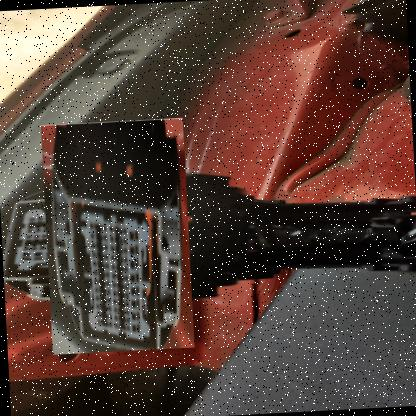Connector: (19, 138, 216, 336)
